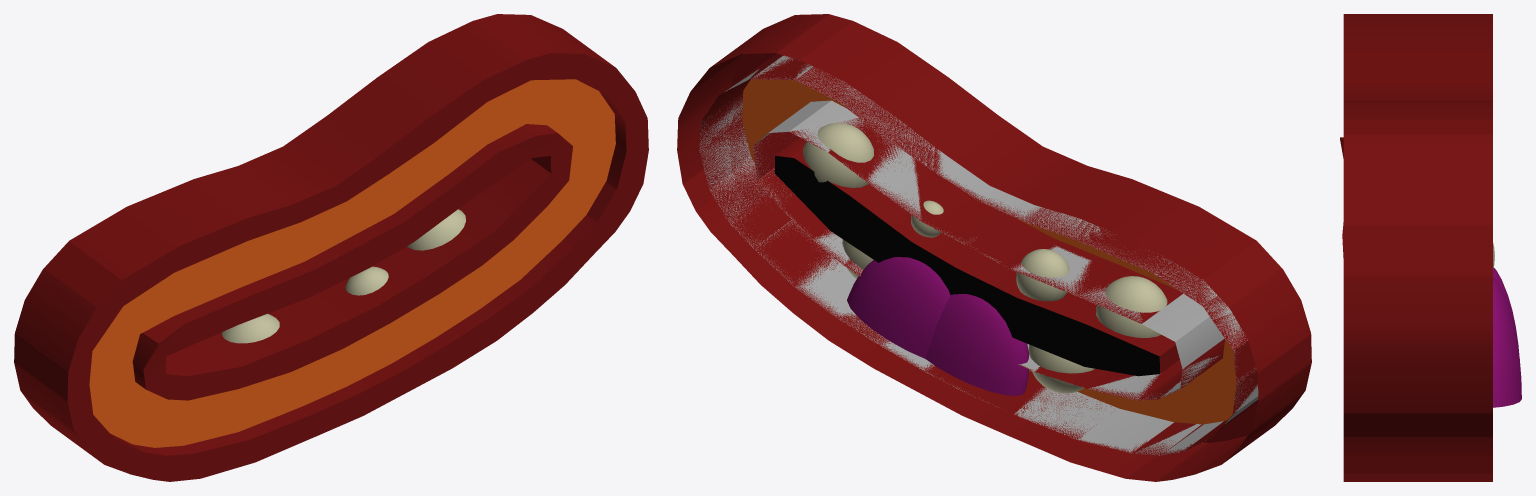
The model's file is orangeLips3.fbx.
The picture shows the model from 3 angles, left to right: view 1: azimuth 30°, elevation 25°; view 2: azimuth 150°, elevation 25°; view 3: azimuth 270°, elevation 25°; orthographic projection. The views are drawn at different scales.
Visible parts, largest first — view 1: pPlane2, pSphere4, pSphere2, pSphere6; view 2: pPlane2, pSphere10, pSphere3, pSphere1, pSphere5, pSphere4; view 3: pPlane2, pSphere10.
Part boxes in pixels (x1=…): pPlane2: x1=14, y1=14, x2=648, y2=481; pSphere4: x1=222, y1=313, x2=279, y2=343; pSphere2: x1=407, y1=209, x2=465, y2=250; pSphere6: x1=345, y1=266, x2=388, y2=295; pPlane2: x1=677, y1=14, x2=1311, y2=481; pSphere10: x1=847, y1=257, x2=1028, y2=395; pSphere3: x1=803, y1=122, x2=873, y2=187; pSphere1: x1=1096, y1=276, x2=1167, y2=337; pSphere5: x1=1016, y1=249, x2=1069, y2=301; pSphere4: x1=1028, y1=344, x2=1094, y2=393; pPlane2: x1=1340, y1=14, x2=1492, y2=481; pSphere10: x1=1493, y1=267, x2=1521, y2=407.
Bounding box in the file's own units: 6.28 × 3.51 × 1.22.
